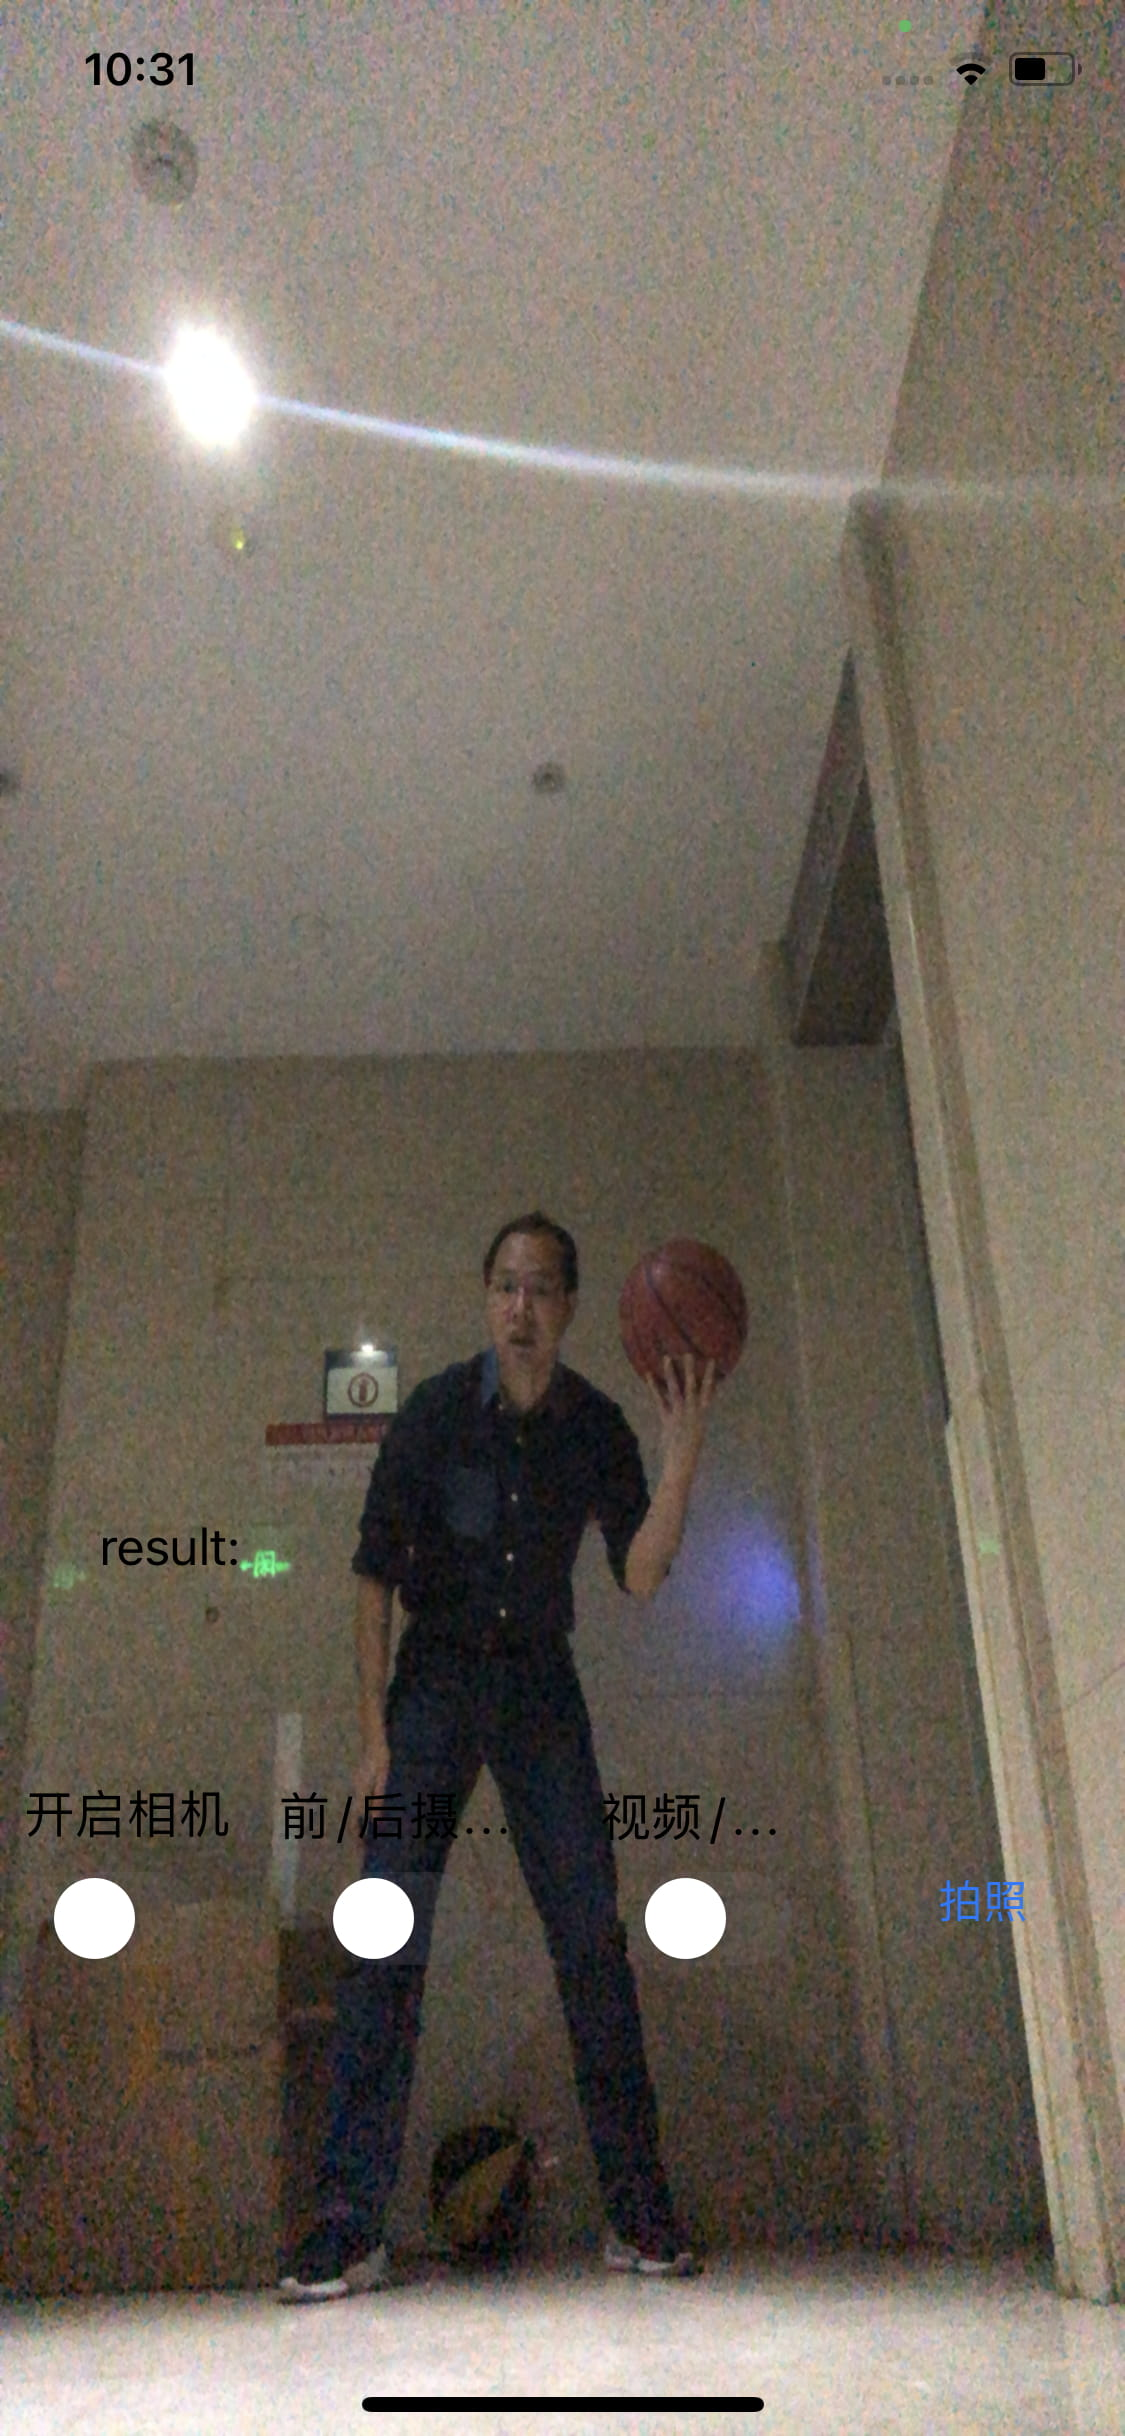ball: (618, 1241, 747, 1387)
